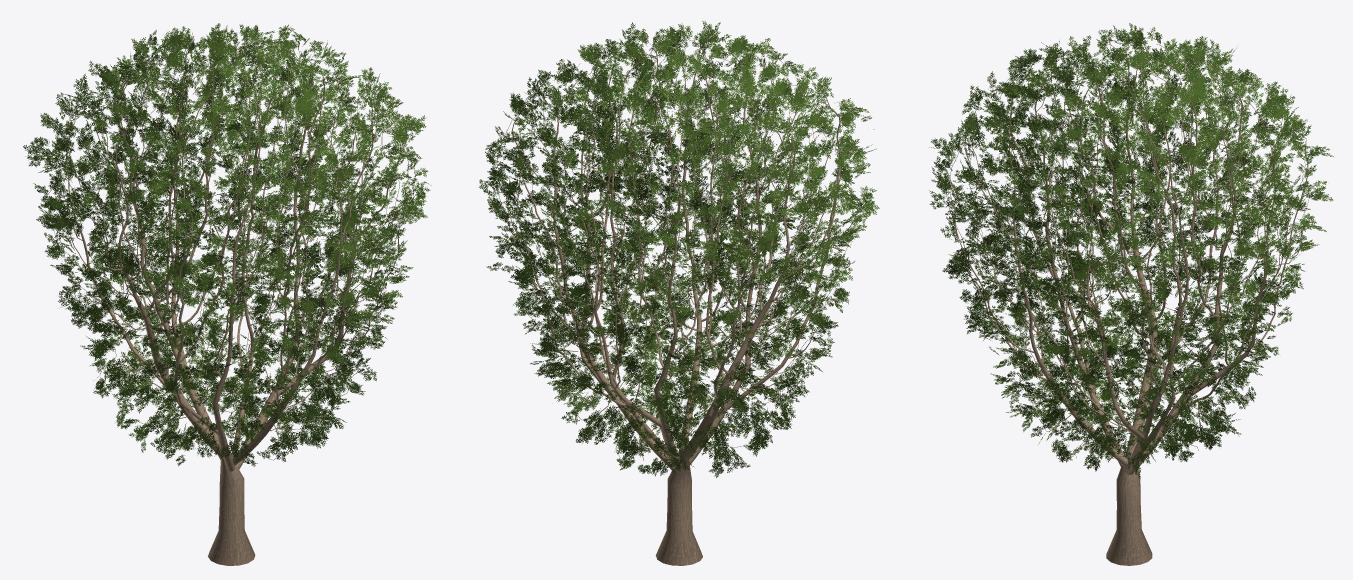
Rendered from keyaki.glb.
The picture shows the model from 3 angles, left to right: view 1: azimuth 30°, elevation 25°; view 2: azimuth 150°, elevation 25°; view 3: azimuth 270°, elevation 25°; orthographic projection.
Parts seen in each view (by area): view 1: keyaki_leaves, keyaki_bark; view 2: keyaki_leaves, keyaki_bark; view 3: keyaki_leaves, keyaki_bark.
Part boxes in pixels (<box>): keyaki_leaves: <box>23,23,431,466</box>; keyaki_bark: <box>44,37,415,565</box>; keyaki_leaves: <box>479,20,879,477</box>; keyaki_bark: <box>496,39,862,565</box>; keyaki_leaves: <box>929,23,1333,478</box>; keyaki_bark: <box>944,40,1309,565</box>.
Bounding box in the file's own units: 13.93 × 18.46 × 13.69.
Materials: 2 (2 with a texture image).
